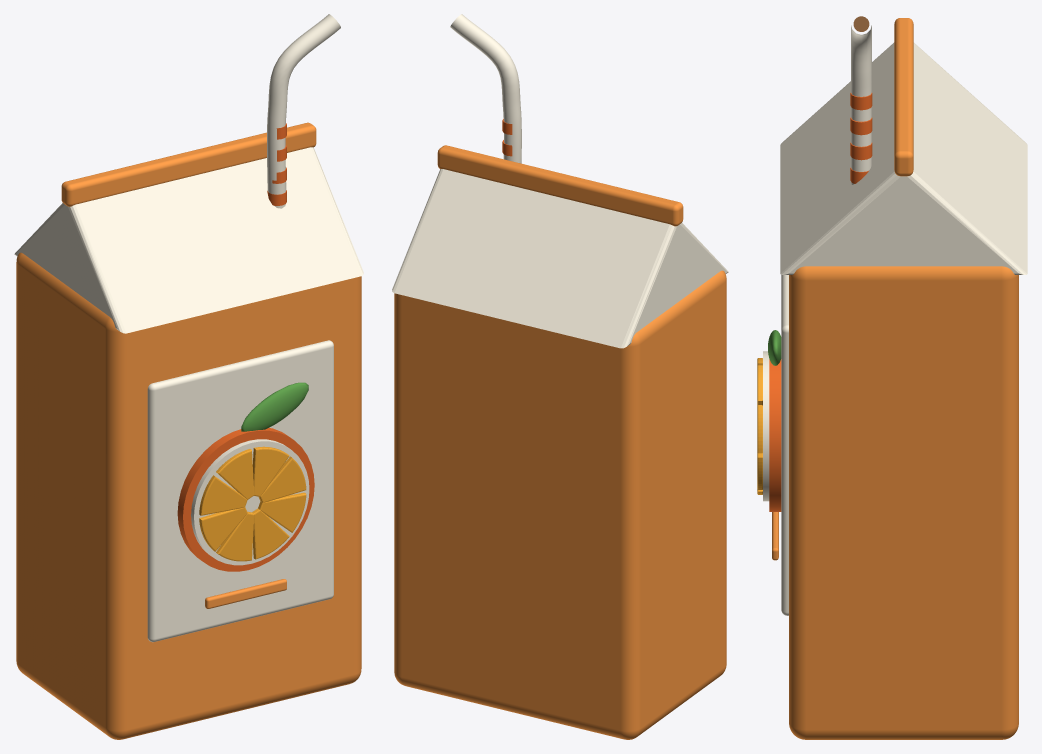
The model's file is drink.glb.
3 views of the same model, side by side, from view 1: azimuth 30°, elevation 25°; view 2: azimuth 150°, elevation 25°; view 3: azimuth 270°, elevation 25° (orthographic). The views are drawn at different scales.
Visible parts, largest first — view 1: Apricot orange paper carton, Warm white carton and straw, Juicy orange segments, Tangerine orange peel, Leaf green; view 2: Apricot orange paper carton, Warm white carton and straw; view 3: Apricot orange paper carton, Warm white carton and straw, Tangerine orange peel, Juicy orange segments.
Boxes of the visible parts, box(x1,y1,x2,y2) form: Apricot orange paper carton: box(16, 122, 361, 739); Warm white carton and straw: box(14, 14, 363, 642); Juicy orange segments: box(199, 446, 306, 561); Tangerine orange peel: box(177, 123, 314, 571); Leaf green: box(241, 382, 308, 431); Apricot orange paper carton: box(394, 145, 726, 739); Warm white carton and straw: box(392, 14, 728, 348); Apricot orange paper carton: box(772, 18, 1018, 739); Warm white carton and straw: box(763, 25, 1027, 615); Tangerine orange peel: box(769, 92, 872, 511); Juicy orange segments: box(757, 358, 762, 494).
Bounding box in the file's own units: 0.0671 × 0.1608 × 0.054.
